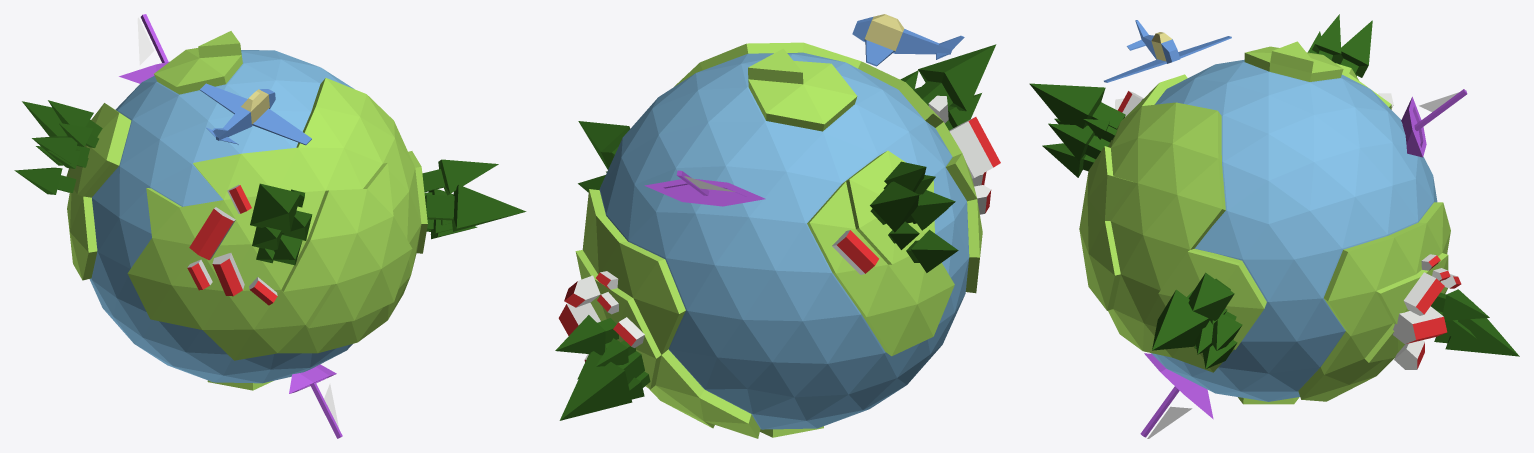
File: planet.gltf
3 views of the same model, side by side, from view 1: azimuth 30°, elevation 25°; view 2: azimuth 150°, elevation 25°; view 3: azimuth 270°, elevation 25° (orthographic). The views are drawn at different scales.
Visible parts, largest first — view 1: Icosphere, Icosphere.001, Plane.002, Plane.021, Plane.010, Plane.022, Plane.040, Plane.034, Plane.003, Plane.004, Plane.035, Plane.007 (+6 smaller); view 2: Icosphere.001, Icosphere, Plane.024, Plane.010, Plane.002, Plane.003, Plane.034, Plane.008, Plane.025, Plane.022, Plane.004, Plane.039 (+8 smaller); view 3: Icosphere.001, Icosphere, Plane.010, Plane.021, Plane.040, Plane.002, Plane.003, Plane.024, Plane.028, Plane.022, Plane.013, Plane.008 (+7 smaller).
Boxes of the visible parts, left/top/right/bottom form: Icosphere: left=66, top=31, right=427, bottom=390; Icosphere.001: left=89, top=50, right=353, bottom=383; Plane.002: left=200, top=83, right=311, bottom=145; Plane.021: left=425, top=184, right=526, bottom=231; Plane.010: left=250, top=183, right=300, bottom=234; Plane.022: left=422, top=159, right=498, bottom=195; Plane.040: left=289, top=364, right=342, bottom=438; Plane.034: left=189, top=207, right=235, bottom=260; Plane.003: left=119, top=14, right=169, bottom=83; Plane.004: left=14, top=167, right=76, bottom=194; Plane.035: left=212, top=253, right=244, bottom=296; Plane.007: left=32, top=135, right=89, bottom=163; Icosphere.001: left=599, top=52, right=969, bottom=429; Icosphere: left=575, top=42, right=982, bottom=438; Plane.024: left=559, top=351, right=644, bottom=420; Plane.010: left=915, top=44, right=996, bottom=111; Plane.002: left=852, top=14, right=964, bottom=66; Plane.003: left=644, top=170, right=765, bottom=206; Plane.034: left=949, top=117, right=1000, bottom=178; Plane.008: left=870, top=181, right=919, bottom=232; Plane.025: left=555, top=315, right=618, bottom=355; Plane.022: left=578, top=121, right=630, bottom=169; Plane.004: left=906, top=229, right=958, bottom=272; Plane.039: left=832, top=230, right=878, bottom=274; Icosphere.001: left=1151, top=59, right=1437, bottom=401; Icosphere: left=1079, top=41, right=1450, bottom=404; Plane.010: left=1029, top=83, right=1125, bottom=142; Plane.021: left=1152, top=289, right=1210, bottom=350; Plane.040: left=1140, top=353, right=1213, bottom=438; Plane.002: left=1104, top=20, right=1231, bottom=82; Plane.003: left=1401, top=89, right=1467, bottom=157; Plane.024: left=1445, top=302, right=1519, bottom=356; Plane.028: left=1392, top=306, right=1447, bottom=344; Plane.022: left=1188, top=272, right=1234, bottom=320; Plane.013: left=1048, top=123, right=1109, bottom=161; Plane.008: left=1337, top=20, right=1372, bottom=77.
Size of the model in its own units: 3.05 by 2.51 by 3.03.
